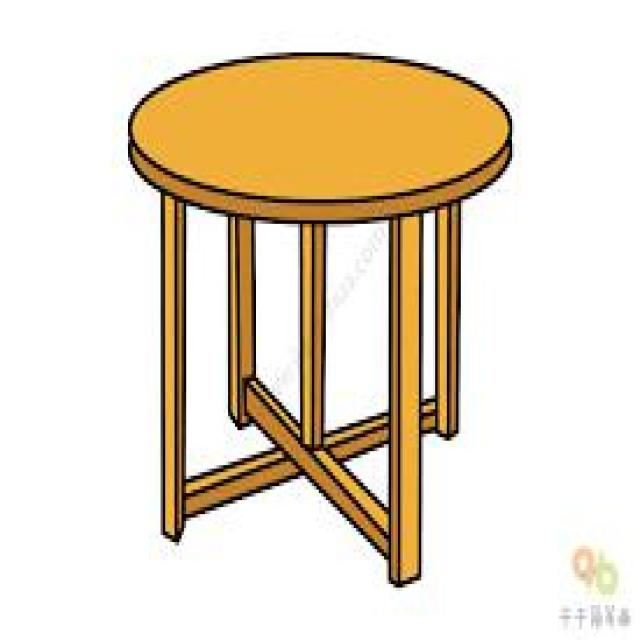desk: (98, 38, 521, 605)
